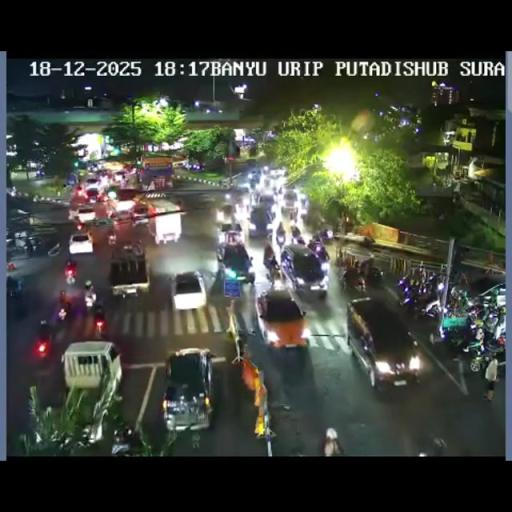Car: (346, 298, 423, 388), (162, 349, 215, 432), (254, 287, 309, 349), (62, 340, 120, 394), (280, 242, 330, 300), (216, 234, 254, 288), (109, 251, 149, 298), (171, 272, 206, 310), (247, 200, 274, 238), (474, 282, 504, 311), (34, 320, 54, 358), (215, 202, 240, 232), (68, 232, 93, 254), (129, 204, 153, 226), (280, 190, 299, 214), (73, 206, 96, 224), (268, 167, 286, 181), (114, 170, 127, 184), (85, 178, 99, 190)
Motorcycle: (440, 314, 478, 354), (479, 314, 505, 354), (440, 288, 470, 319), (398, 280, 425, 314), (6, 275, 28, 315), (338, 262, 365, 293), (417, 434, 448, 456), (421, 271, 443, 301), (110, 428, 134, 455), (467, 344, 490, 372), (362, 263, 385, 289), (422, 296, 444, 320), (91, 303, 106, 337), (464, 302, 486, 325), (234, 327, 249, 358), (266, 261, 282, 284), (24, 236, 43, 255), (83, 290, 97, 312), (57, 300, 70, 323), (316, 226, 333, 242), (131, 239, 143, 261), (291, 226, 304, 244), (275, 225, 286, 246), (249, 188, 259, 206), (65, 270, 75, 286), (84, 280, 94, 294), (266, 231, 274, 245), (107, 234, 116, 246), (336, 247, 342, 265), (276, 186, 283, 196)
